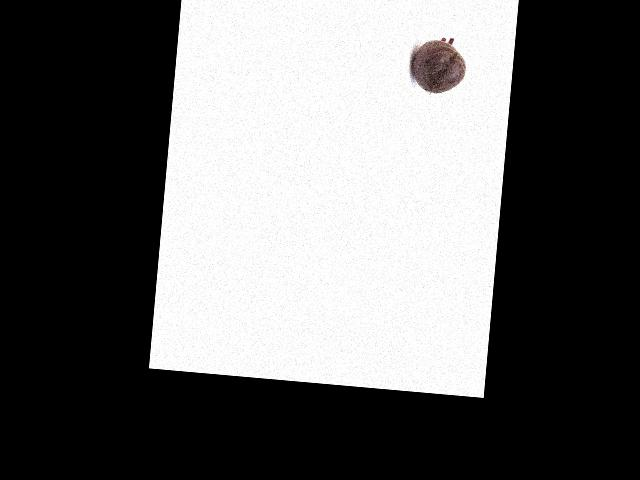beet: (409, 35, 468, 96)
